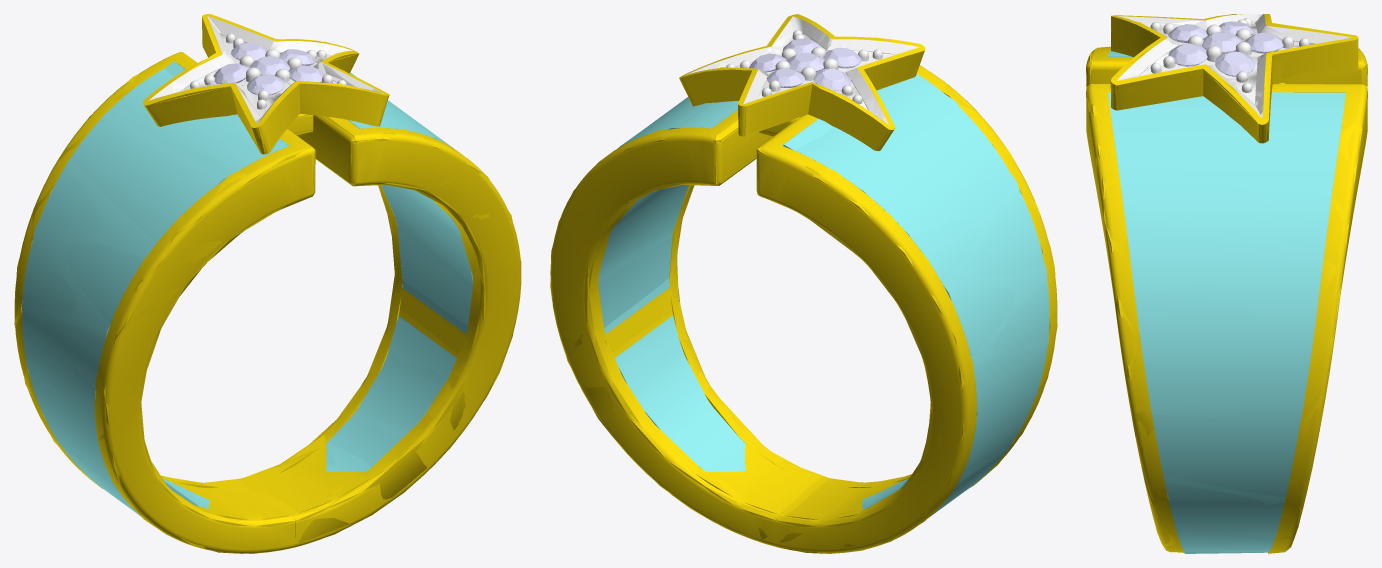
File: DLR-D000677521.glb
3 renders of one model, left to right at view 1: azimuth 30°, elevation 25°; view 2: azimuth 150°, elevation 25°; view 3: azimuth 270°, elevation 25°, orthographic. The views are drawn at different scales.
Visible parts, largest first — view 1: highPolyMesh, lowPolyMesh; view 2: highPolyMesh, lowPolyMesh; view 3: highPolyMesh, lowPolyMesh.
Boxes of the visible parts, box(x1,y1,x2,y2) form: highPolyMesh: box(14, 14, 521, 553); lowPolyMesh: box(14, 14, 521, 553); highPolyMesh: box(550, 14, 1057, 553); lowPolyMesh: box(550, 14, 1057, 553); highPolyMesh: box(1086, 14, 1367, 552); lowPolyMesh: box(1086, 14, 1367, 553).
Bounding box in the file's own units: 0.0218 × 0.0233 × 0.0121.
